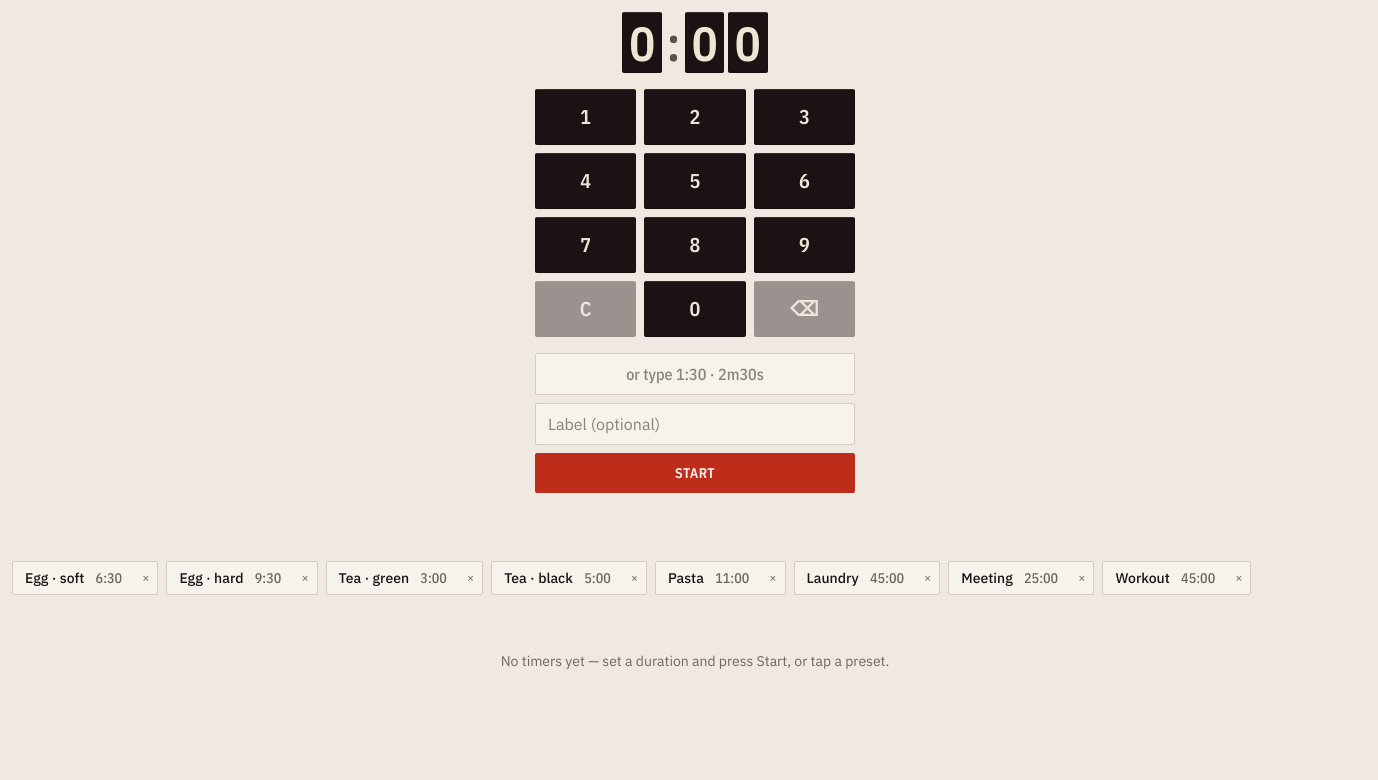
Test: CountdownView › deletes the last digit and clears the whole entry
Step 1. Click the button "1" → (586,117), box [535, 89, 636, 145]
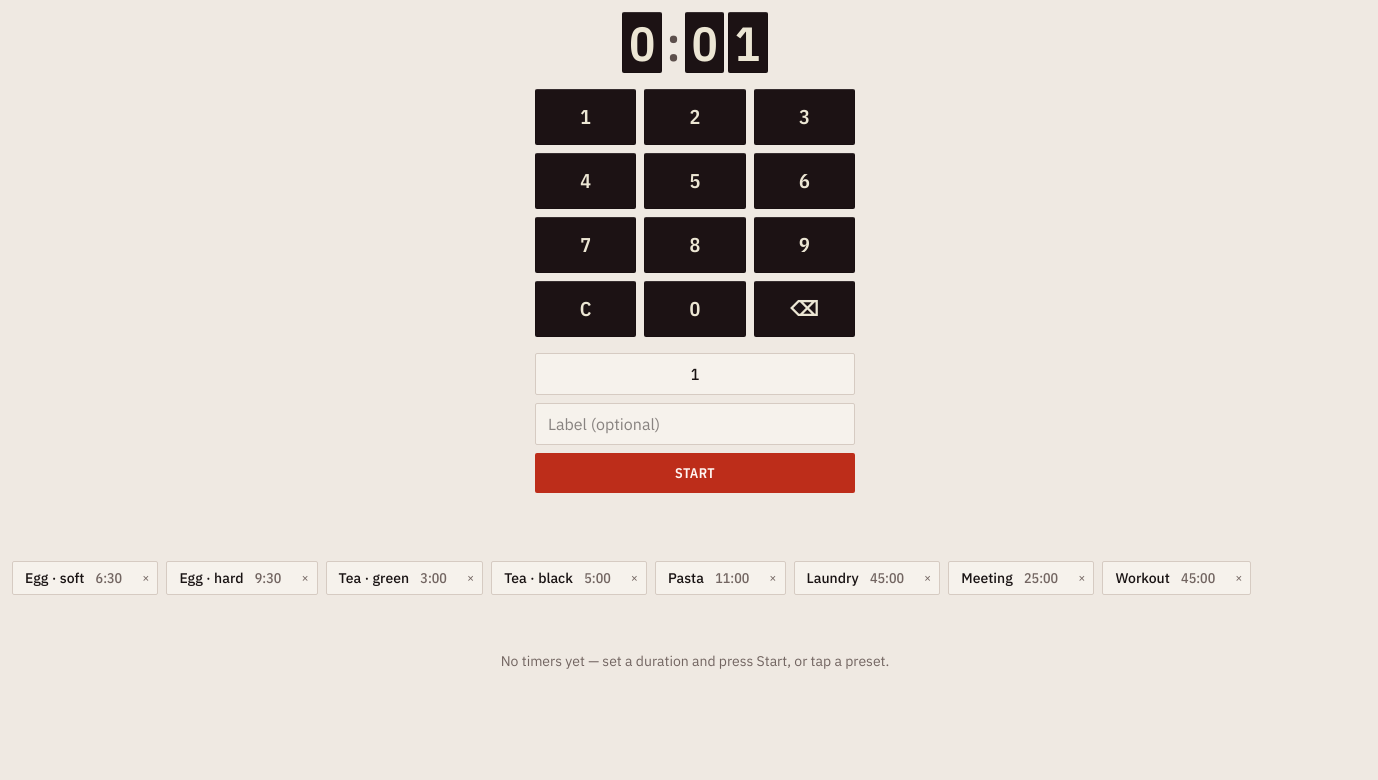
Step 2. Click the button "3" → (804,117), box [754, 89, 855, 145]
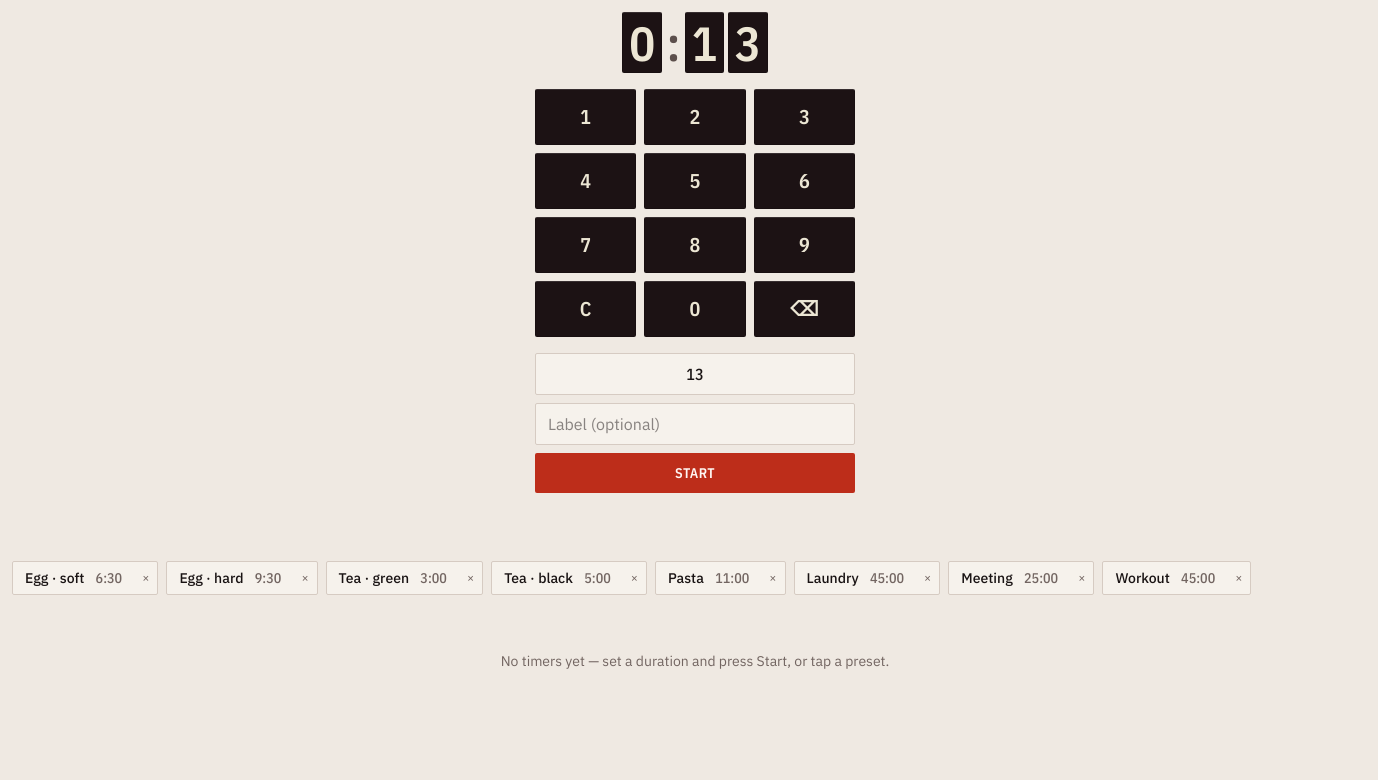
Step 3. Click the button "0" → (695,309), box [644, 281, 746, 337]
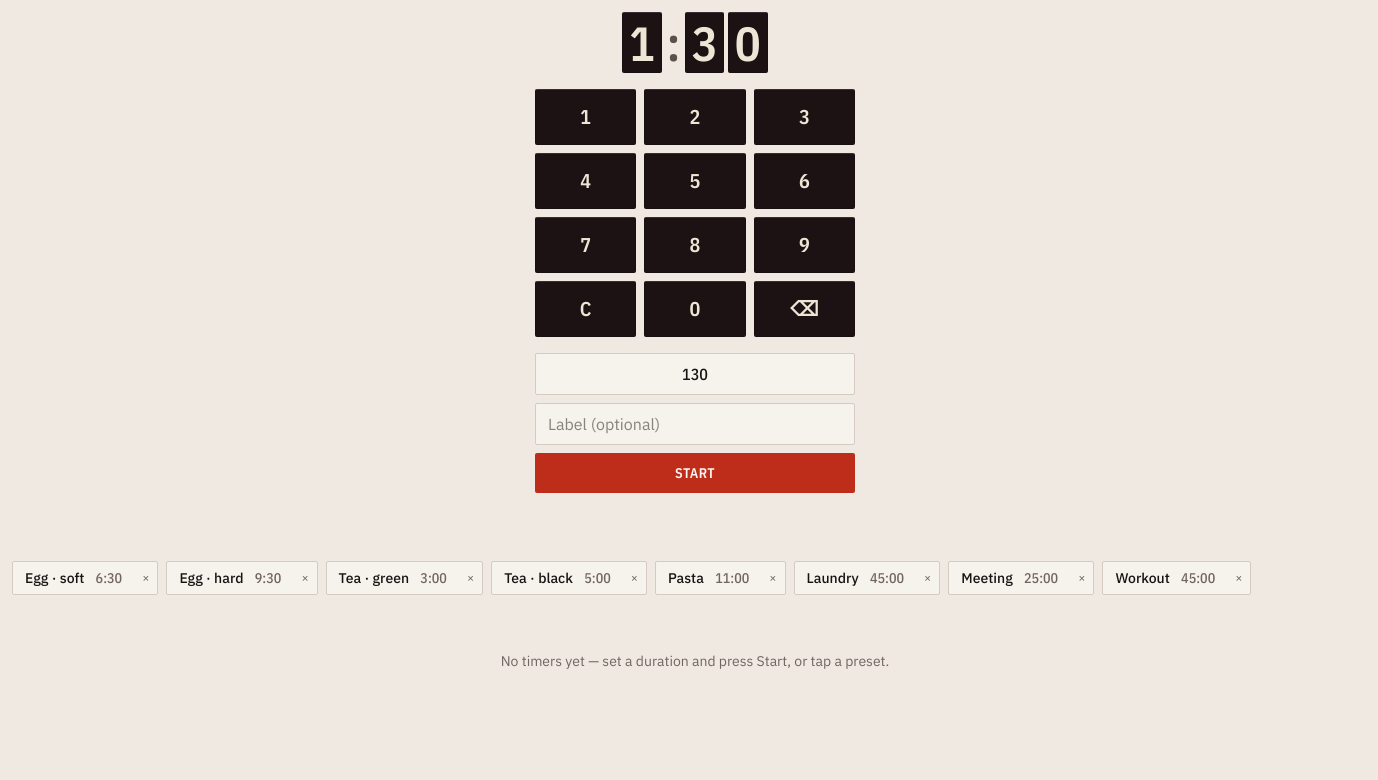
Step 4. Click the button named "Delete last digit" → (804,309), box [754, 281, 855, 337]
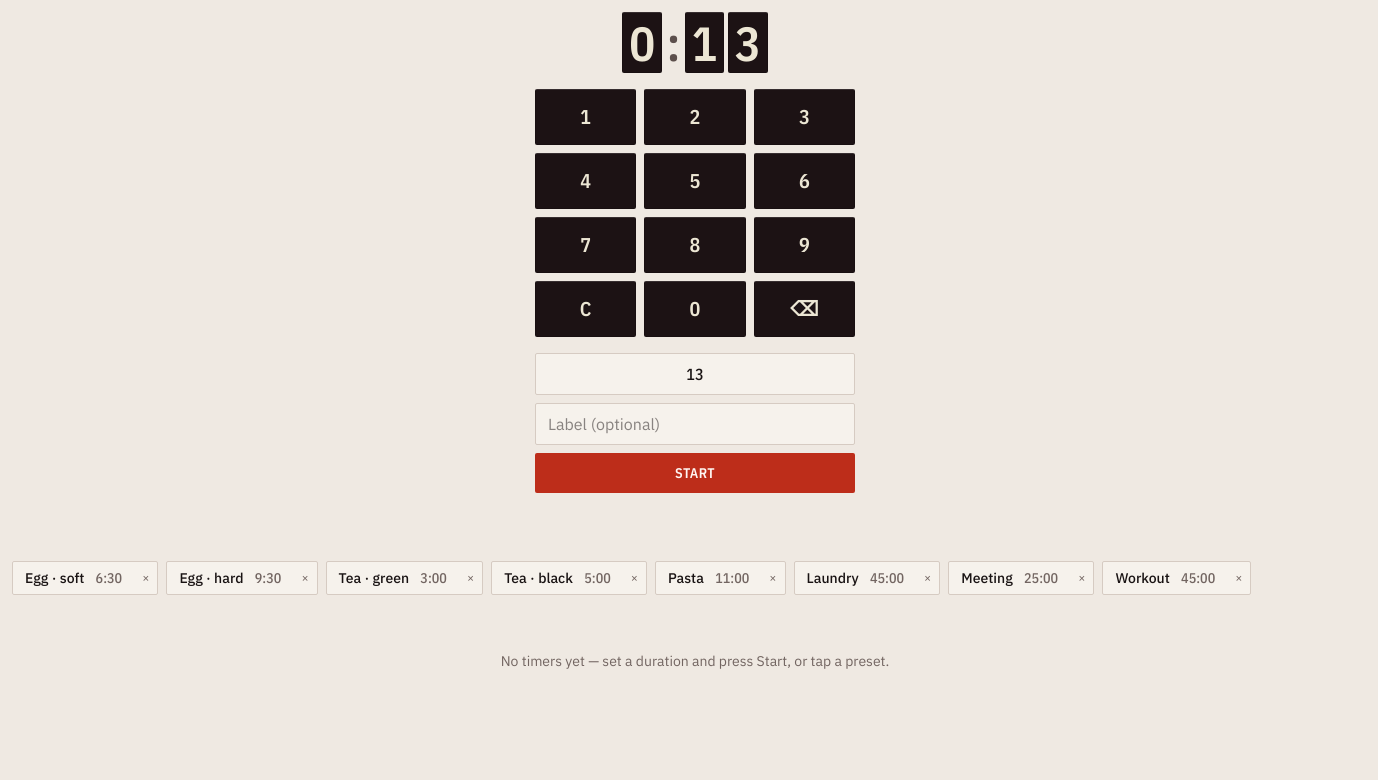
Result: the field named "Duration" holds "13" at [535, 353, 855, 395]
Step 5. Click the button named "Clear" → (586,309), box [535, 281, 636, 337]
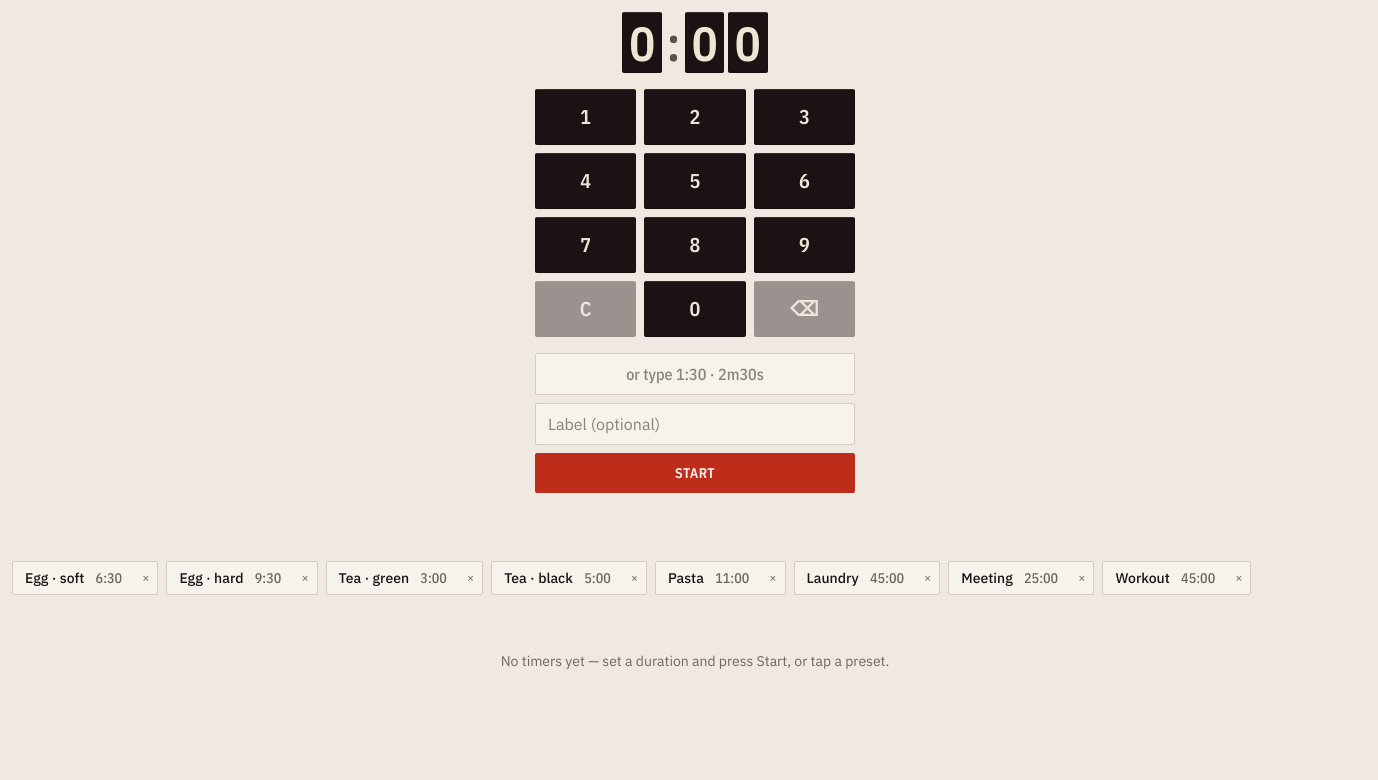
Result: the field named "Duration" is empty at [535, 353, 855, 395]
